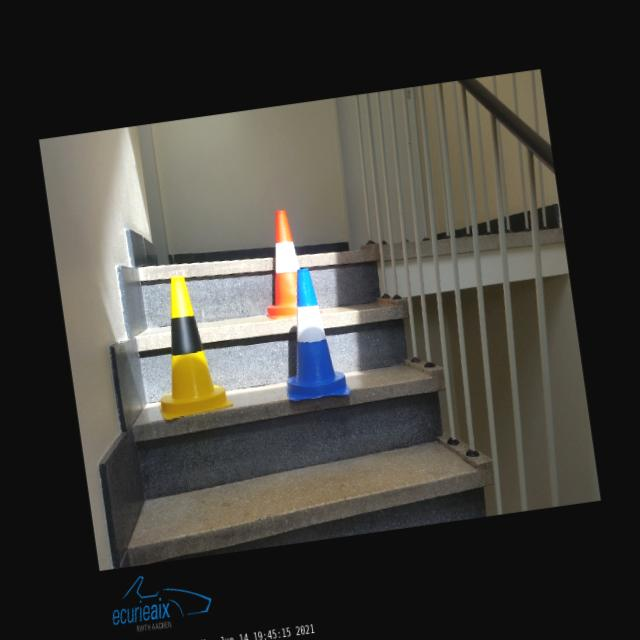blue_cone: (270, 264, 352, 404)
orange_cone: (253, 208, 306, 320)
yellow_cone: (142, 272, 234, 420)
